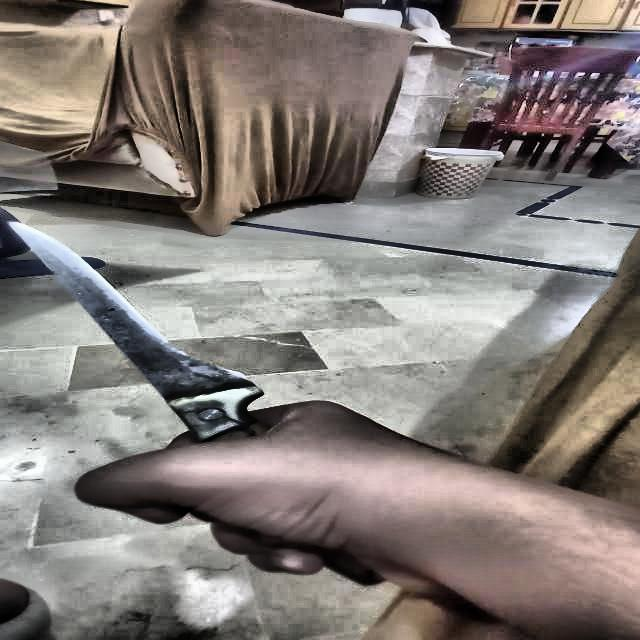knife: (7, 224, 384, 585)
